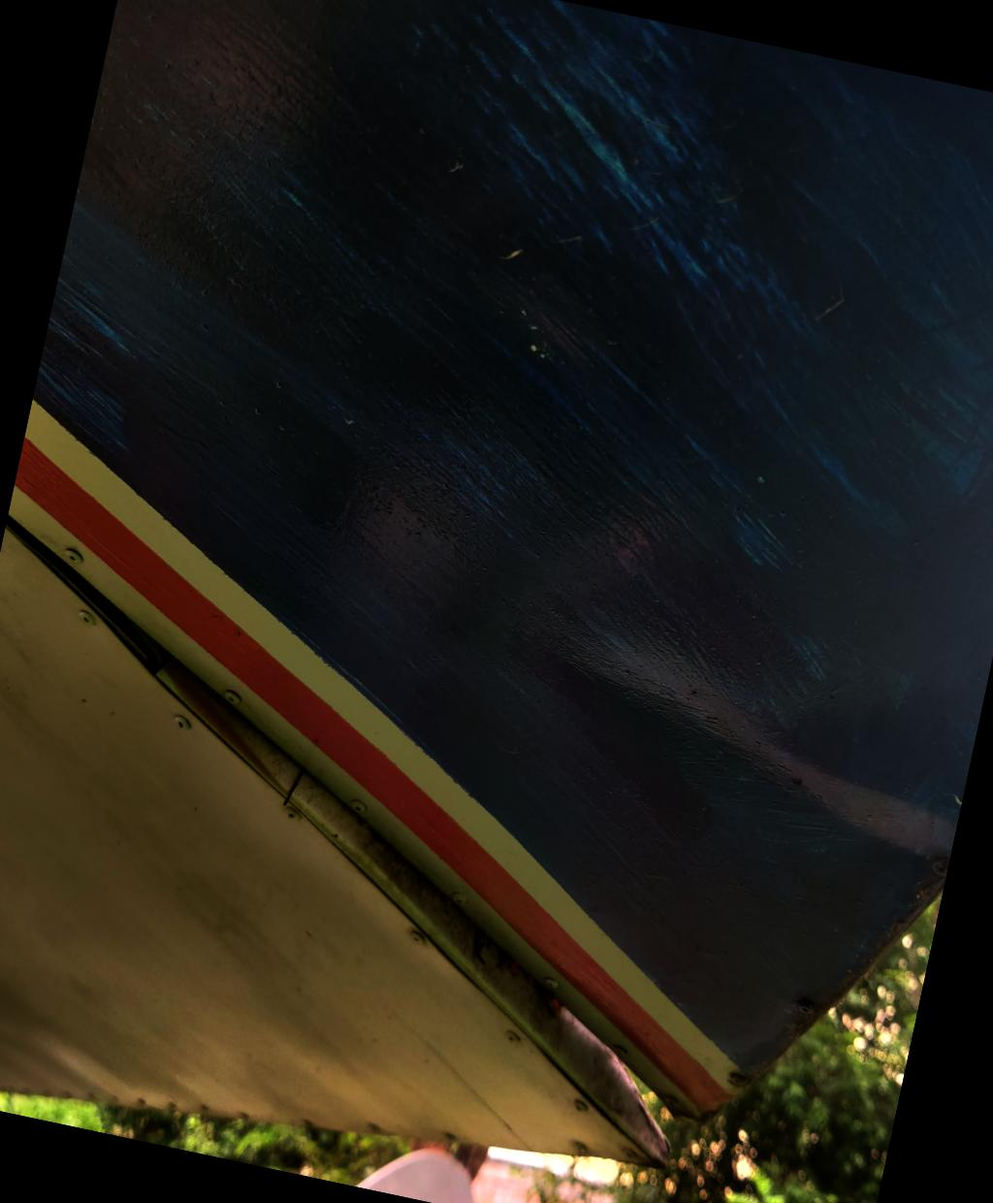dent: (451, 508, 993, 959)
